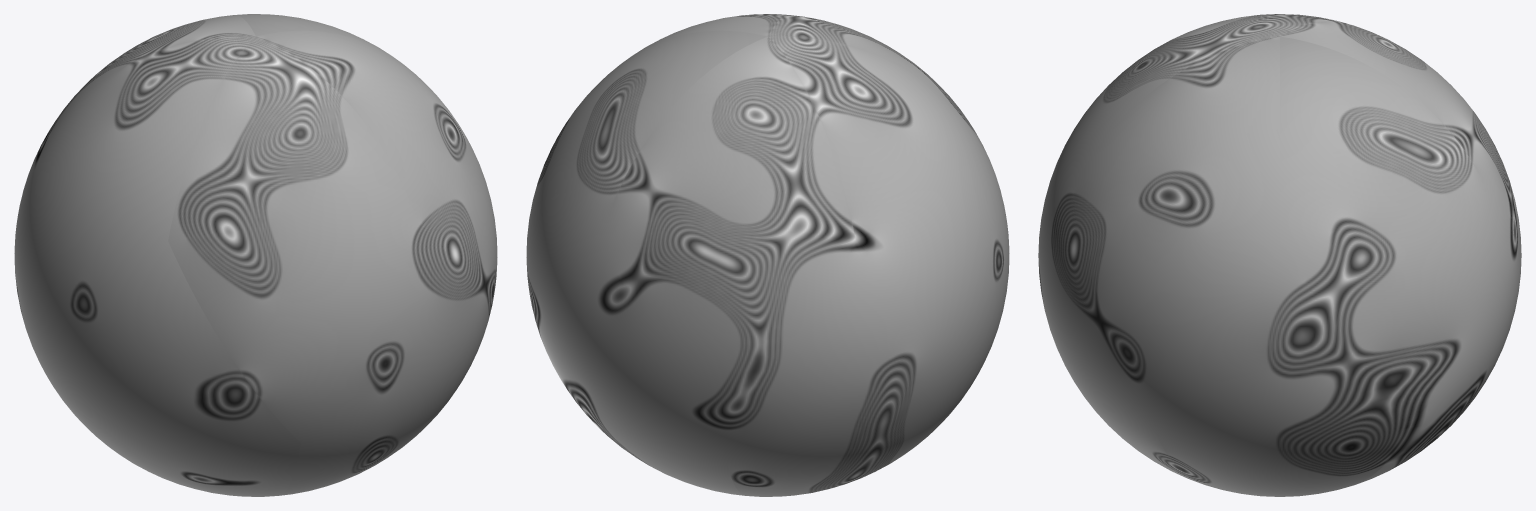
Rendered from icoball.obj.
3 views of the same model, side by side, from view 1: azimuth 30°, elevation 25°; view 2: azimuth 150°, elevation 25°; view 3: azimuth 270°, elevation 25° (orthographic).
Visible parts, largest first — view 1: Icosphere; view 2: Icosphere; view 3: Icosphere.
Part boxes in pixels (<box>): Icosphere: <box>14,14,497,496</box>; Icosphere: <box>526,14,1009,496</box>; Icosphere: <box>1038,14,1521,496</box>.
Size of the model in its own units: 2 by 2 by 2.
Materials: 1 (1 with a texture image).
